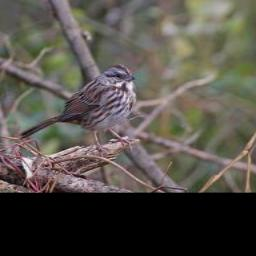Sparrow: (17, 63, 137, 153)
